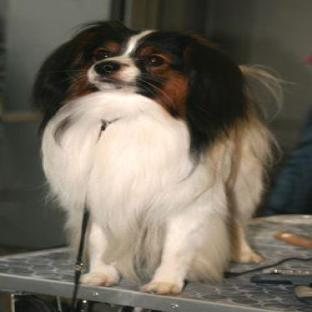Animal: (32, 22, 278, 294)
